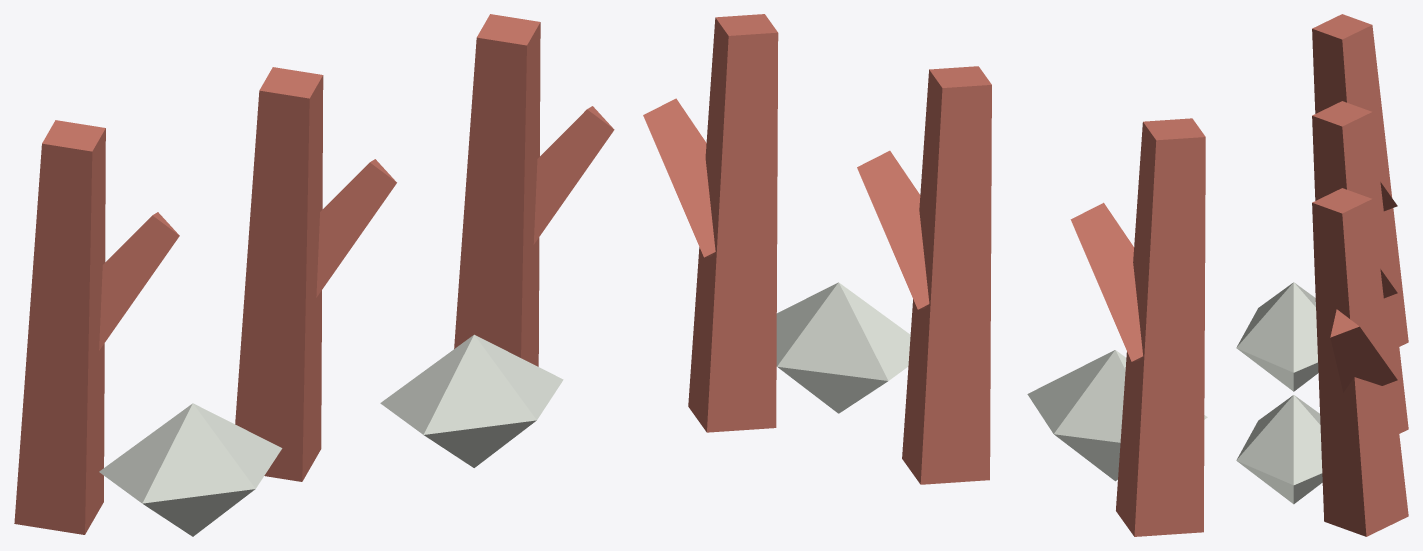
The model's file is Water_Accent.fbx.
3 renders of one model, left to right at view 1: azimuth 30°, elevation 25°; view 2: azimuth 150°, elevation 25°; view 3: azimuth 270°, elevation 25°, orthographic. The views are drawn at different scales.
Visible parts, largest first — view 1: Water_Accent; view 2: Water_Accent; view 3: Water_Accent.
Boxes of the visible parts, <box> form: Water_Accent: <box>14,14,614,536</box>; Water_Accent: <box>643,14,1207,536</box>; Water_Accent: <box>1236,14,1408,536</box>.
Bounding box in the file's own units: 45.22 × 30.17 × 14.25.
